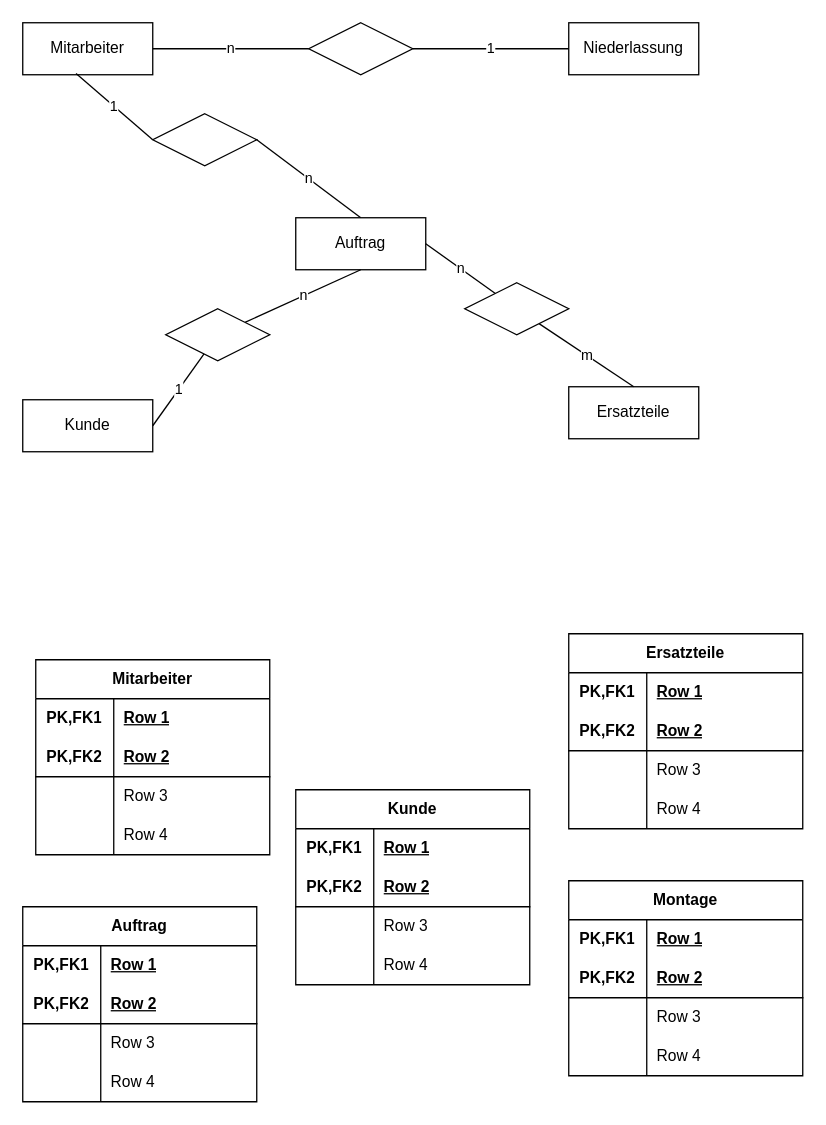
Some shapes in this 826 by 1125 pixel diagram are drawn without their labels. Each missing label, with the centre of its shape:
arbeitet in: (x=360, y=48)
bearbeitet: (x=204, y=139)
benötigt: (x=516, y=308)
erstellt: (x=217, y=334)
